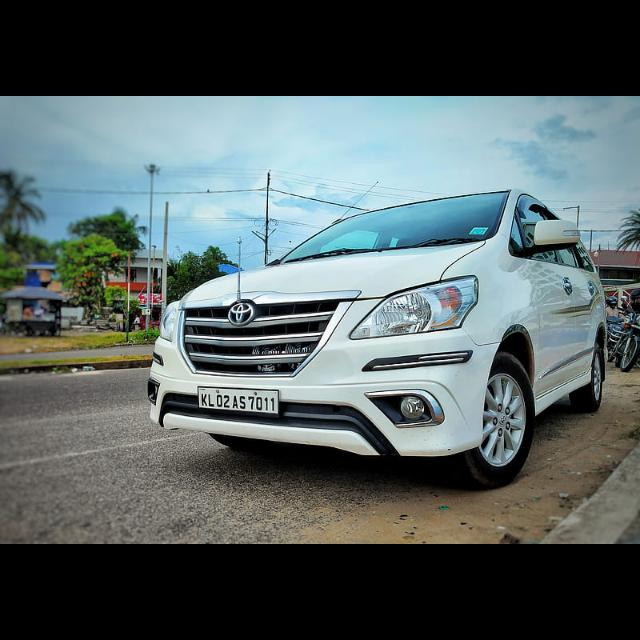number-plate: (196, 385, 281, 417)
vehicles: (146, 194, 615, 494)
